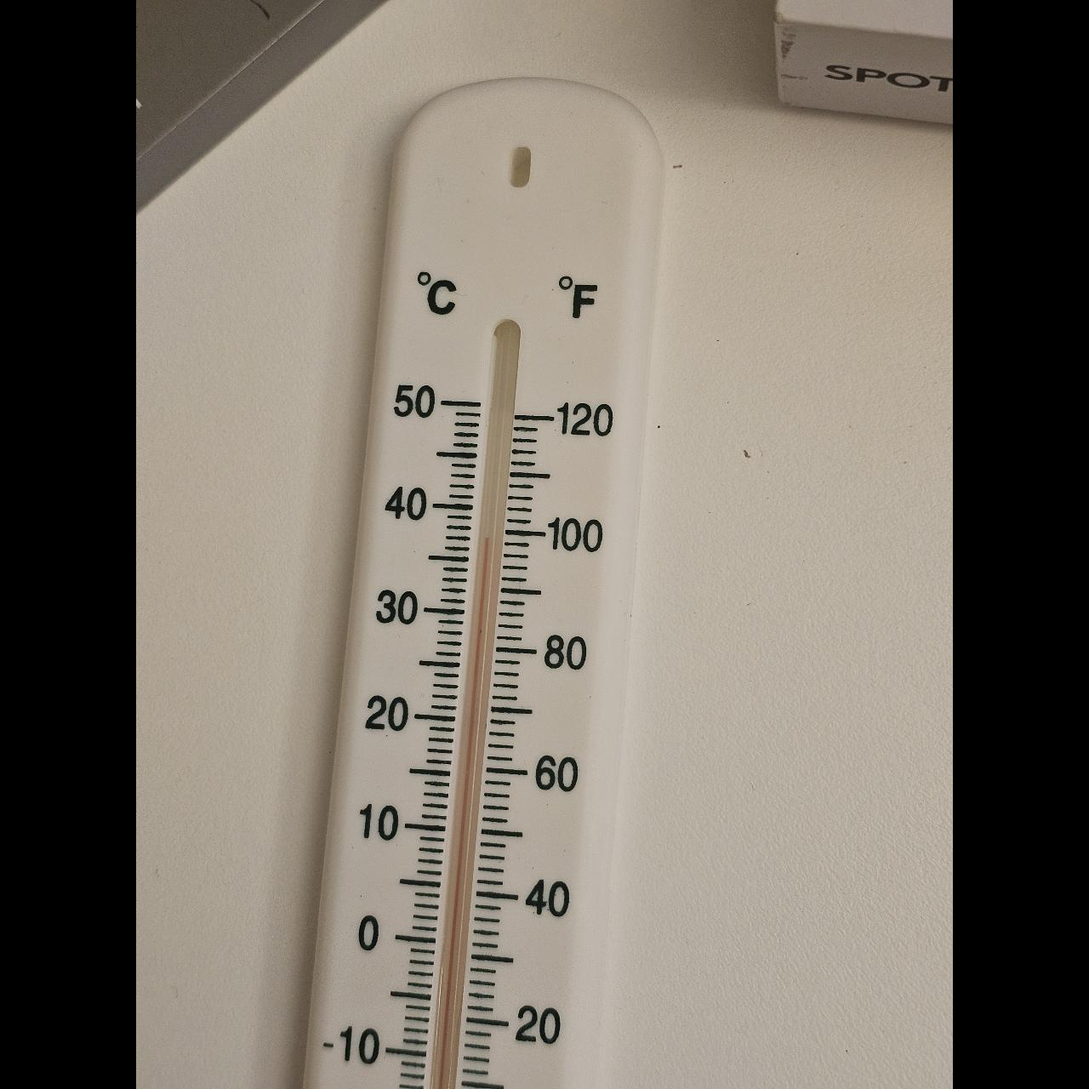thermometer: (302, 77, 669, 1089)
